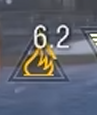1fire: (7, 53, 70, 83)
